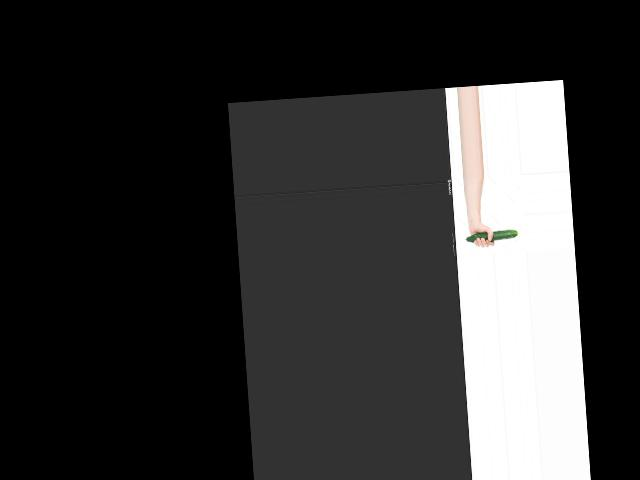cucumber: (464, 229, 517, 243)
